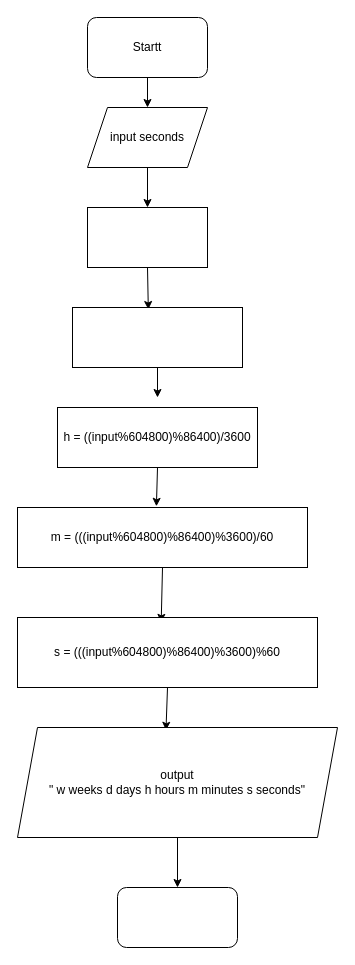
The diagram is 355 pixels wide and 965 high, and some of its shapes have lost their labels. Each missing label, with the centre of its shape:
"d = (input%604800)/86400" belongs at (x=157, y=337).
"end" belongs at (x=177, y=917).
"w = input/604800" belongs at (x=147, y=237).
